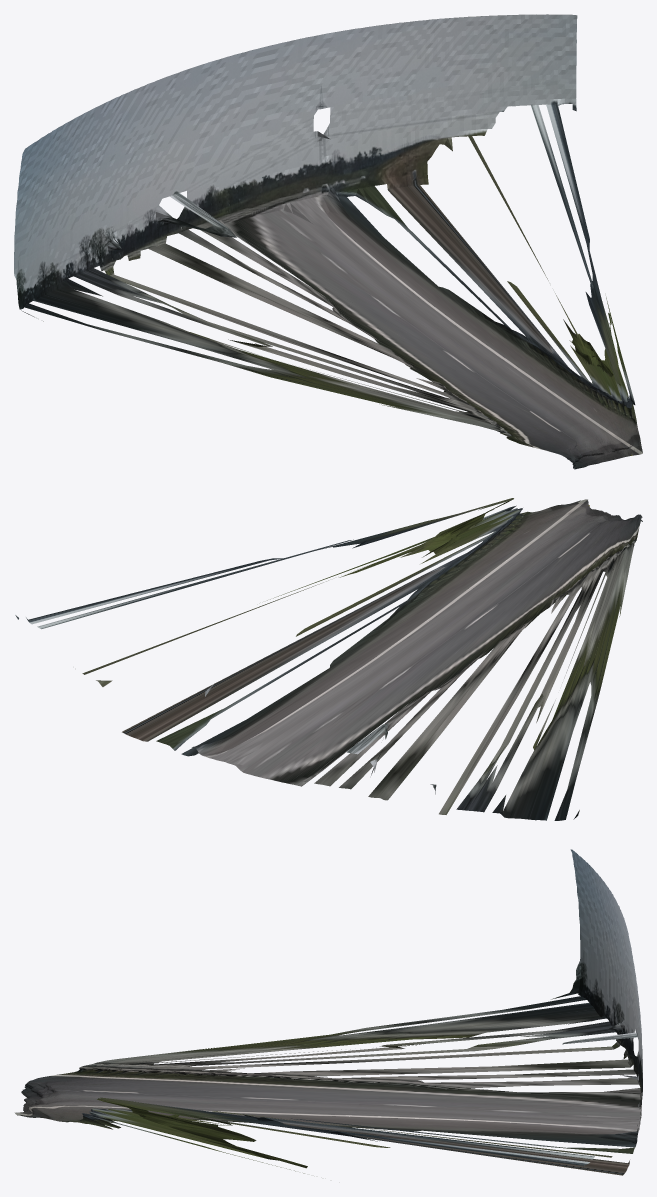
The picture shows the model from 3 angles, top to bottom: view 1: azimuth 30°, elevation 25°; view 2: azimuth 150°, elevation 25°; view 3: azimuth 270°, elevation 25°; orthographic projection. The views are drawn at different scales.
Parts seen in each view (by area): view 1: defaultobject; view 2: defaultobject; view 3: defaultobject.
Boxes of the visible parts, x1=… form: defaultobject: x1=14, y1=14, x2=642, y2=469; defaultobject: x1=15, y1=498, x2=642, y2=820; defaultobject: x1=14, y1=849, x2=642, y2=1175.
Bounding box in the file's own units: 41.12 × 12.71 × 44.93.
1 material, 1 textured.
